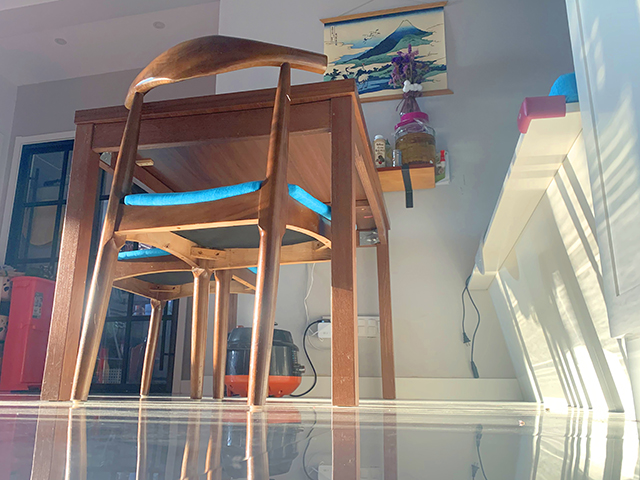stool: (69, 34, 333, 409)
table: (40, 77, 398, 407)
wire: (287, 317, 328, 399)
